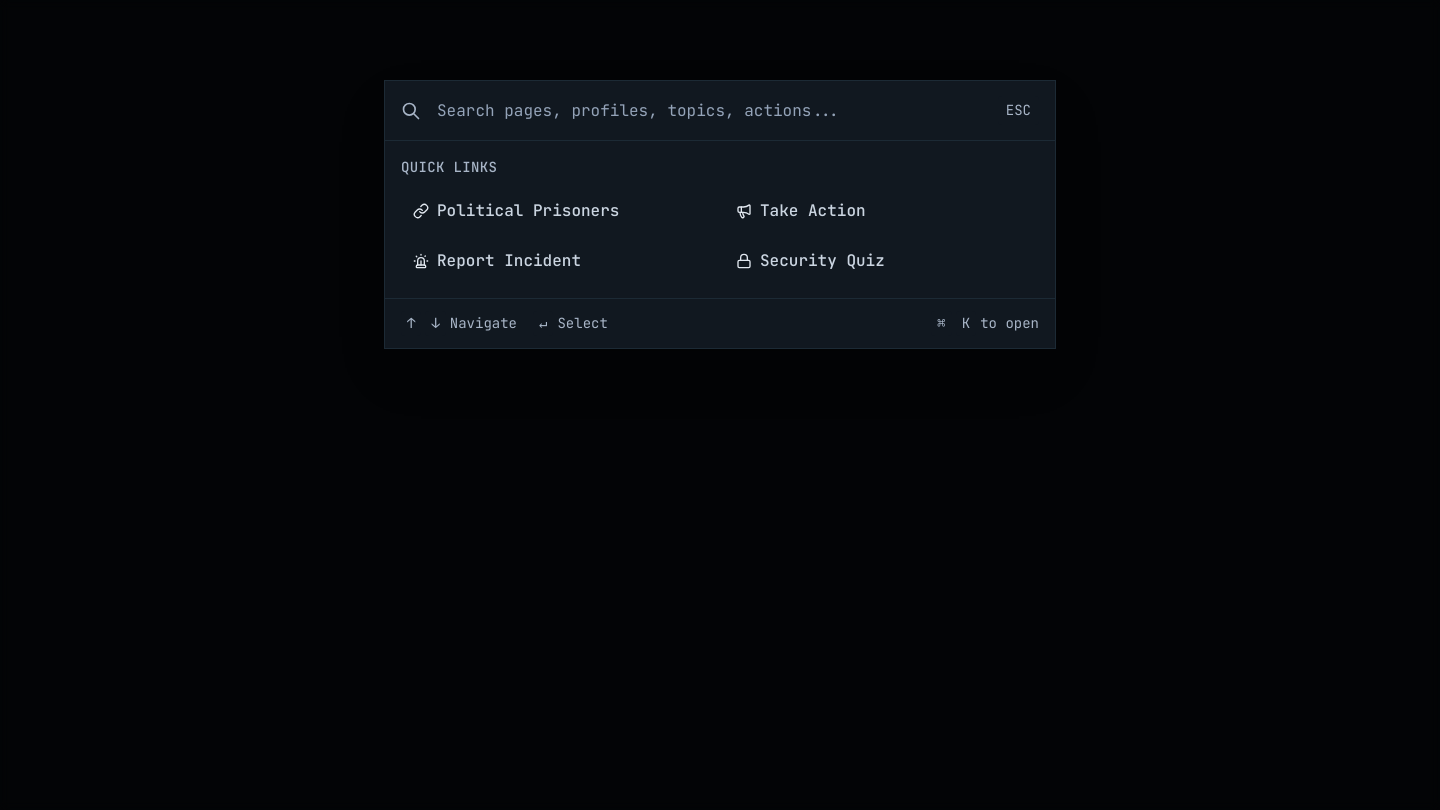
Test: GlobalSearch › ranks title matches higher than keyword matches
Type "security" into the field named "Global search". click: [709, 111]
box: [421,81,998,140]
Wait 200 ms
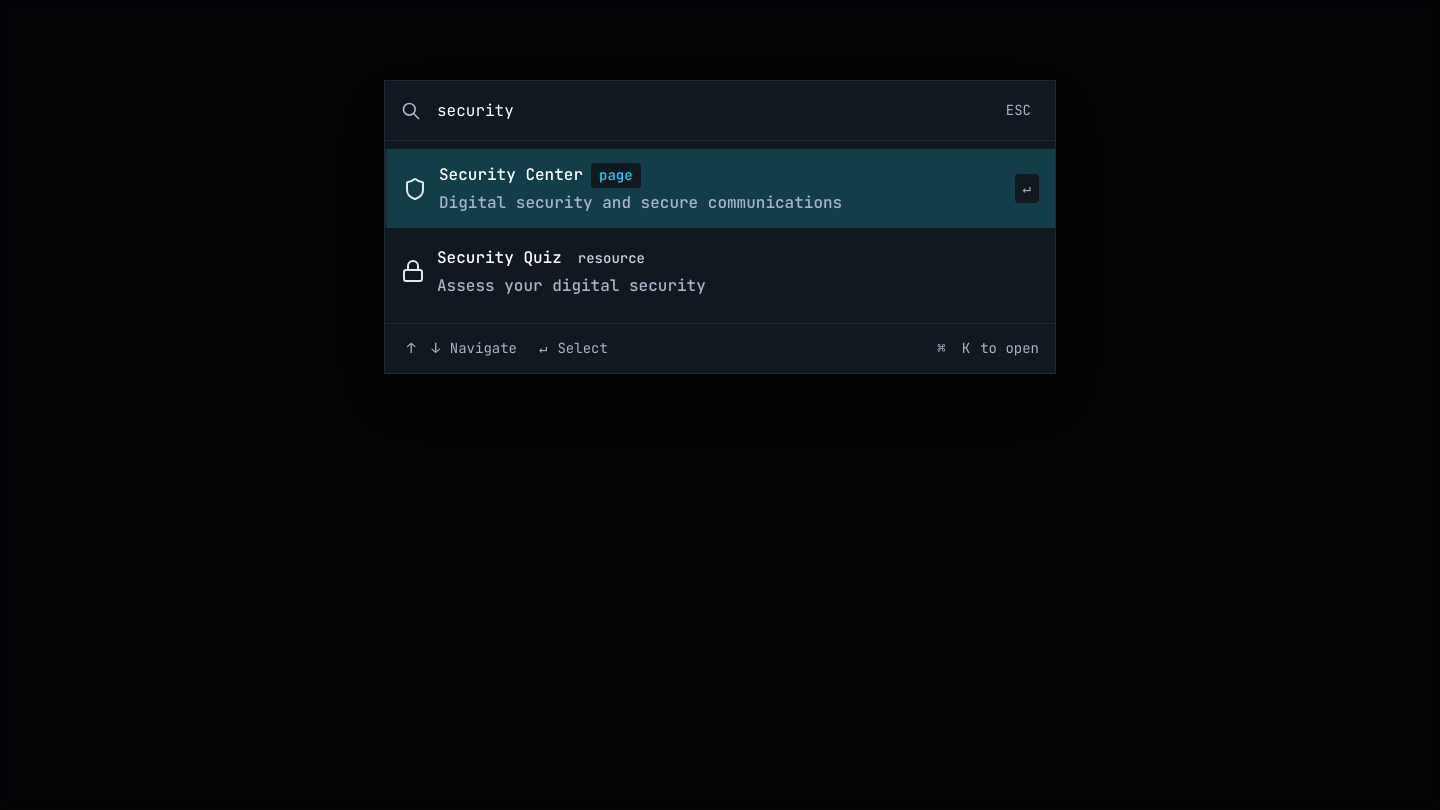
Check: the option that starts with "Security Center" is shown, box [385,149,1055,228]
